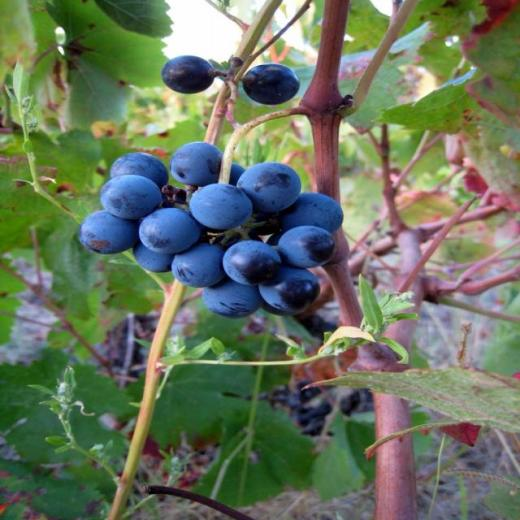Orange: (80, 142, 344, 318)
